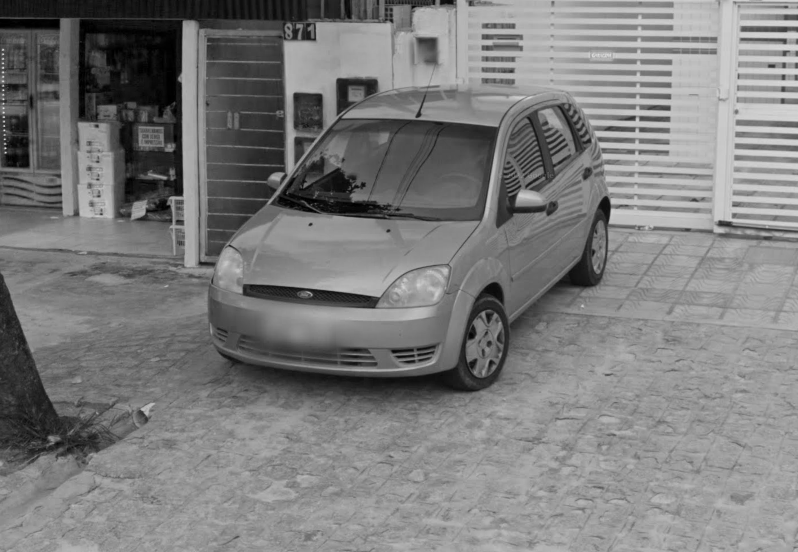car: (205, 61, 625, 403)
